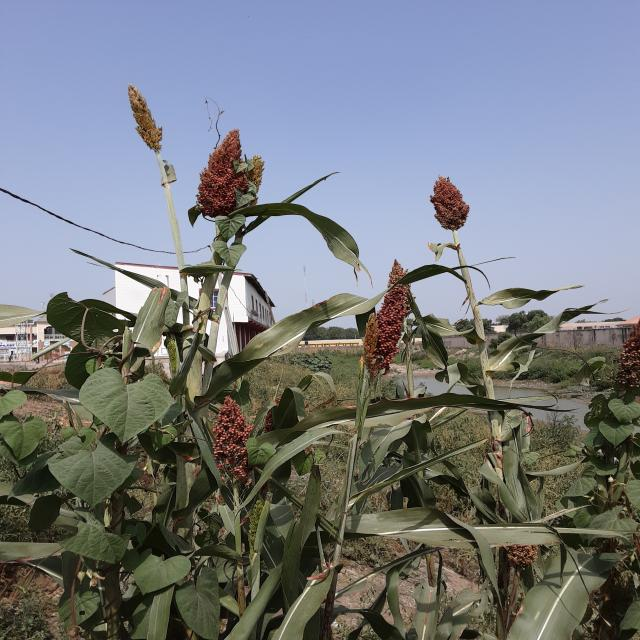RipeSorghum: (189, 393, 270, 474), (190, 116, 246, 221), (358, 287, 424, 368), (410, 171, 488, 232)
